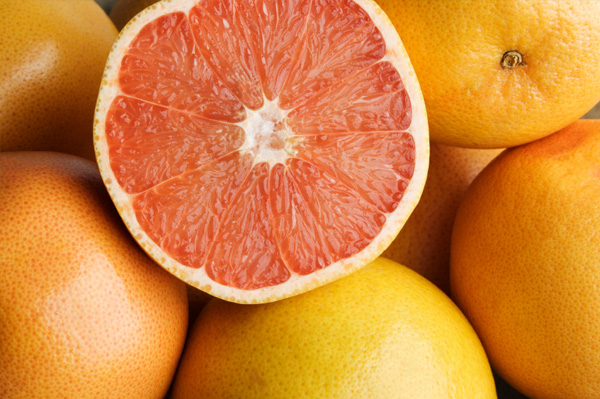grapefruit: (107, 2, 410, 290), (1, 157, 183, 399), (466, 120, 600, 382), (193, 269, 451, 399), (416, 1, 600, 119), (1, 3, 118, 154)
